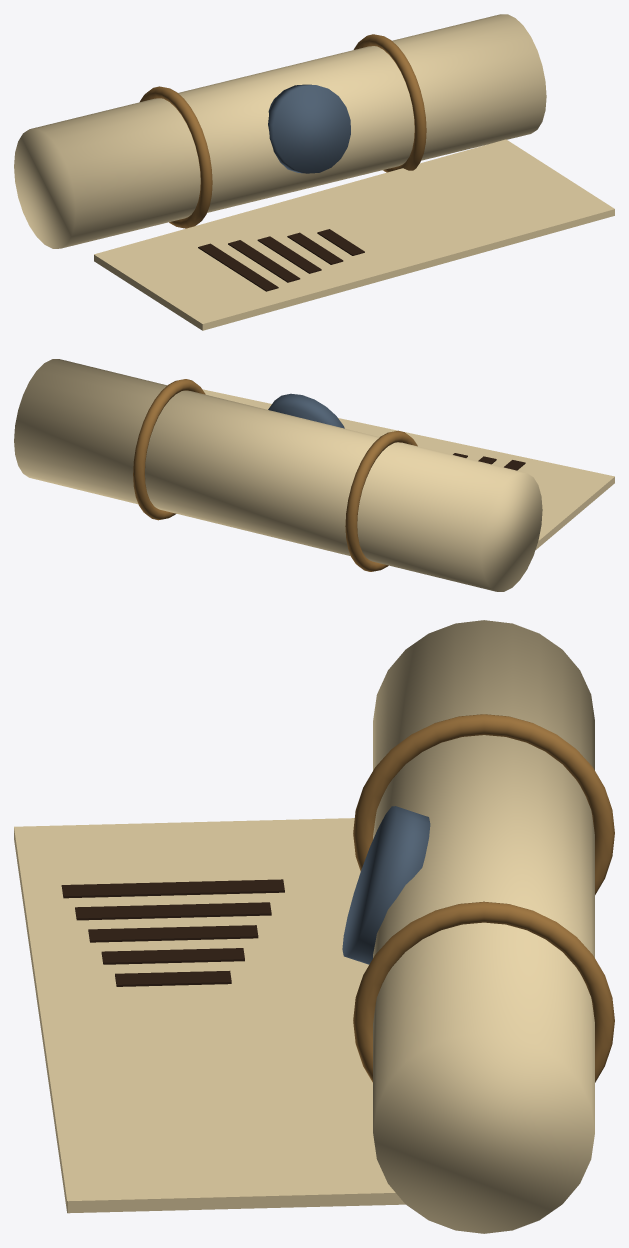
The model's file is kords_brief.glb.
3 views of the same model, one above another, from view 1: azimuth 30°, elevation 25°; view 2: azimuth 150°, elevation 25°; view 3: azimuth 270°, elevation 25° (orthographic). The views are drawn at different scales.
Parts seen in each view (by area): view 1: Cone; view 2: Cone; view 3: Cone.
Boxes of the visible parts, bbox=[...] form: Cone: bbox=[14, 14, 614, 330]; Cone: bbox=[14, 359, 614, 591]; Cone: bbox=[14, 620, 614, 1233].
Bounding box in the file's own units: 0.22 × 0.059 × 0.1354.
